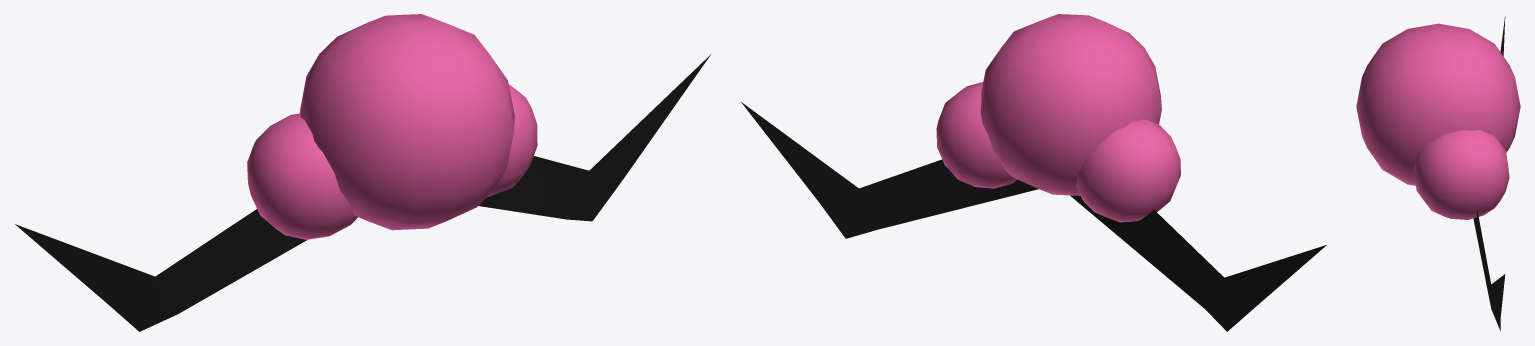
Rendered from Claw_Creator_Character_Wario_Nose.fbx.
The picture shows the model from 3 angles, left to right: view 1: azimuth 30°, elevation 25°; view 2: azimuth 150°, elevation 25°; view 3: azimuth 270°, elevation 25°; orthographic projection. The views are drawn at different scales.
Visible parts, largest first — view 1: SM_Nose_02; view 2: SM_Nose_02; view 3: SM_Nose_02.
Part boxes in pixels (box(x1,y1,x2,y2)): SM_Nose_02: box(15, 14, 710, 331); SM_Nose_02: box(741, 14, 1326, 331); SM_Nose_02: box(1356, 16, 1520, 330).
Bounding box in the file's own units: 41.15 × 15.9 × 11.
